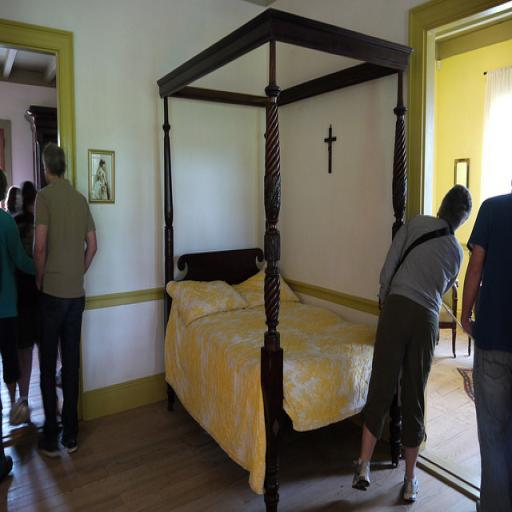bed: (166, 7, 469, 510)
